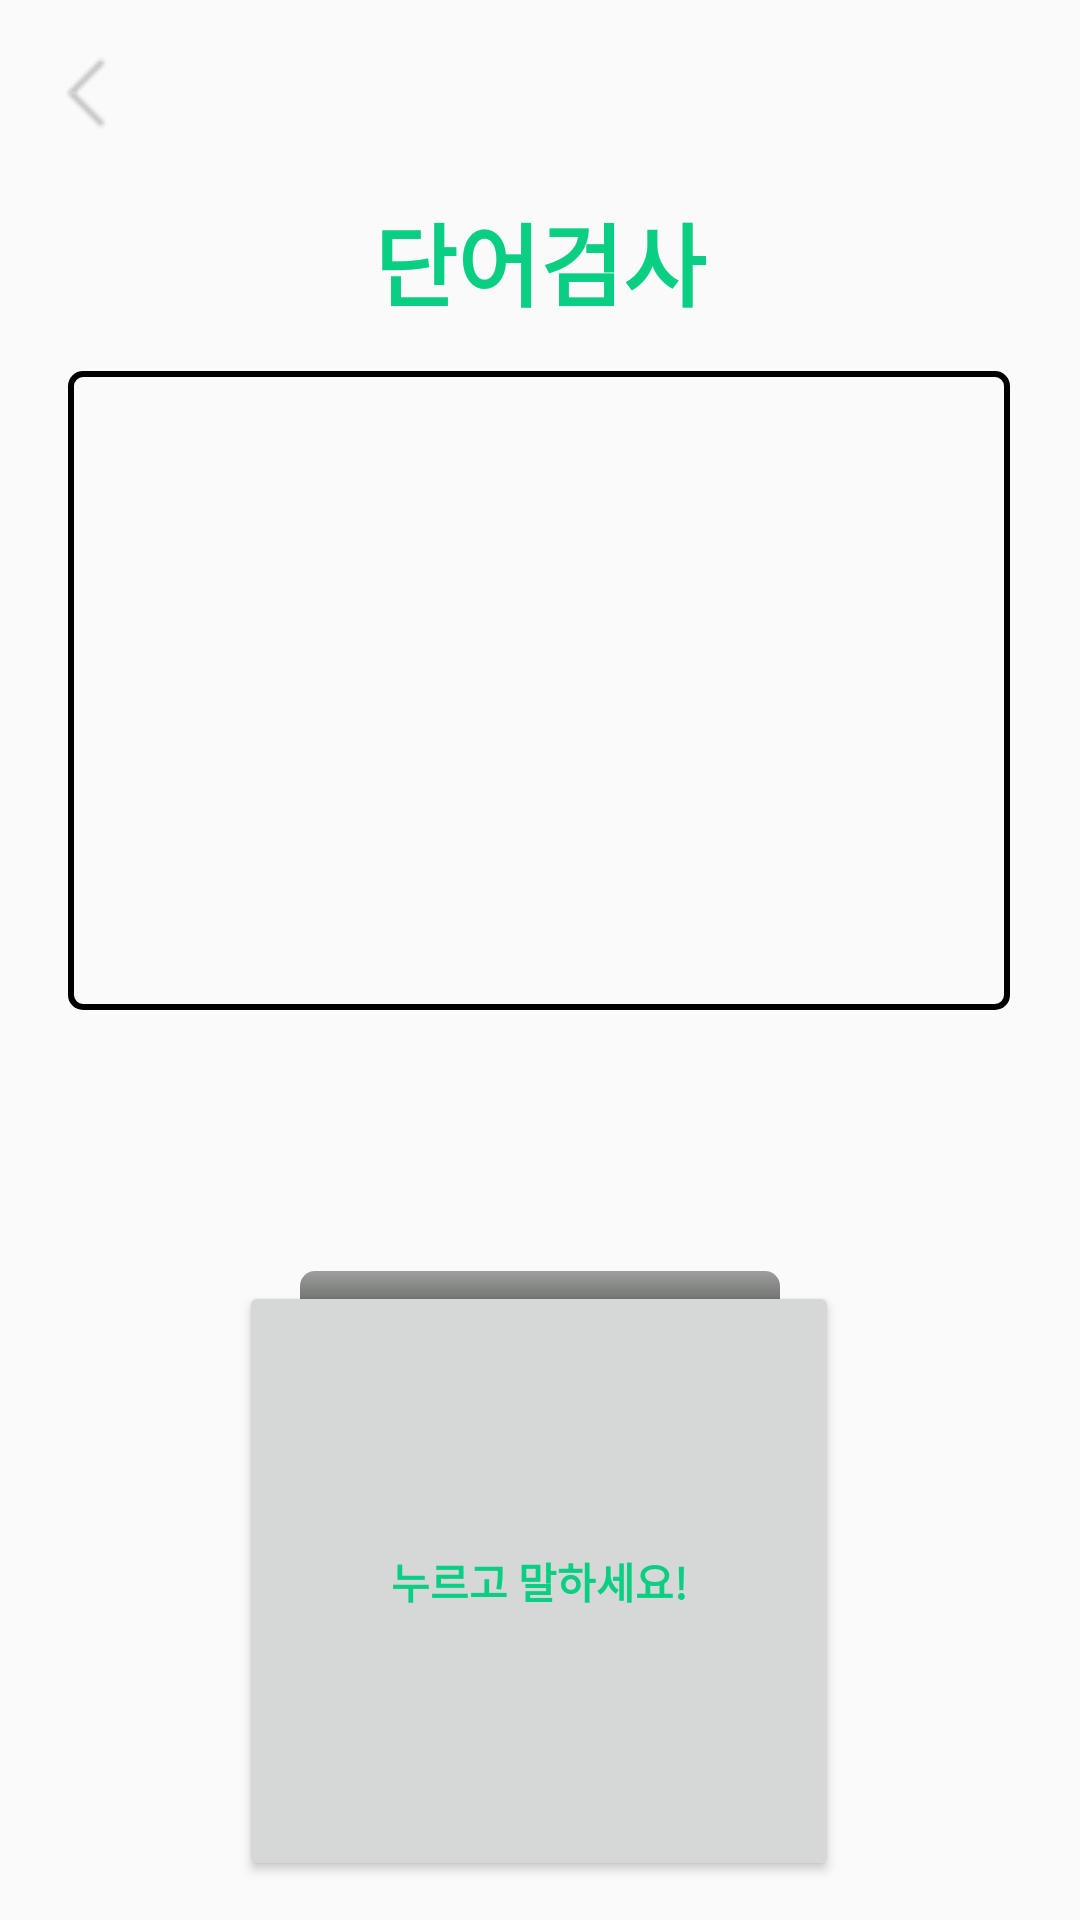

Where to tap for icons on this 1080px x 1920px app screen, as [x,y]:
back: [86,93]
